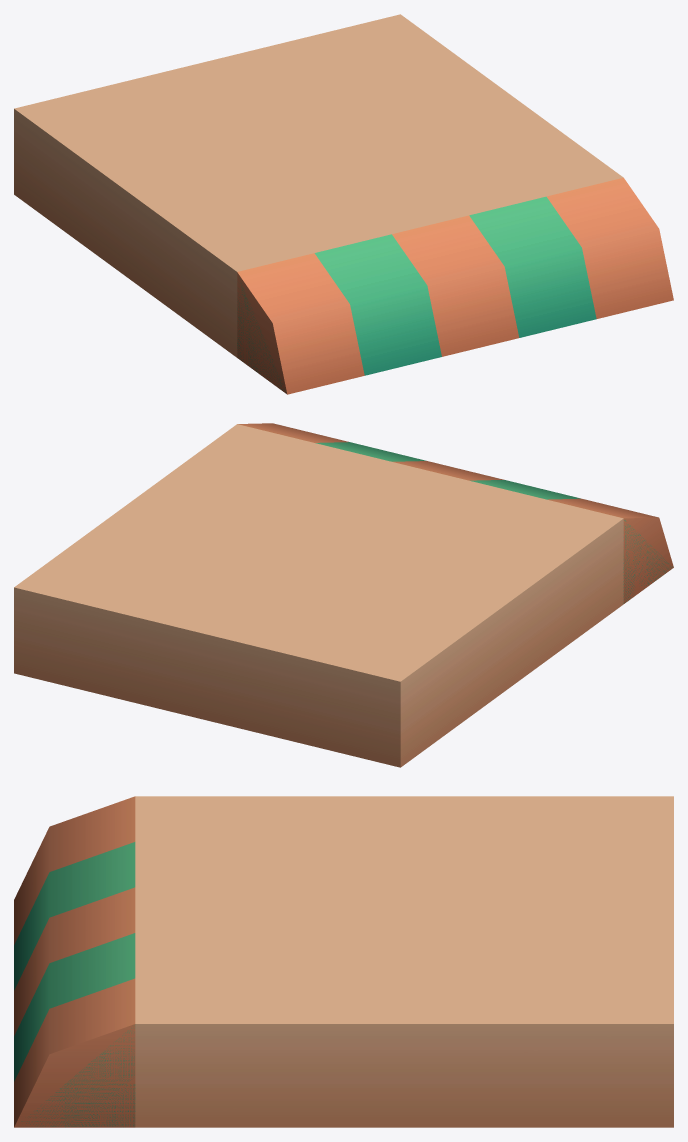
File: kenney-modular-buildings-roof-flat-awning-c.glb
3 renders of one model, top to bottom at view 1: azimuth 30°, elevation 25°; view 2: azimuth 150°, elevation 25°; view 3: azimuth 270°, elevation 25°, orthographic. The views are drawn at different scales.
Visible parts, largest first — view 1: roof-flat-awning-c; view 2: roof-flat-awning-c; view 3: roof-flat-awning-c.
Part boxes in pixels (x1,y1,x2,y2): roof-flat-awning-c: [14, 14, 673, 394]; roof-flat-awning-c: [14, 423, 673, 767]; roof-flat-awning-c: [14, 796, 673, 1127].
Size of the model in its own units: 1 by 0.2125 by 1.23.
Materials: 1 (1 with a texture image).
